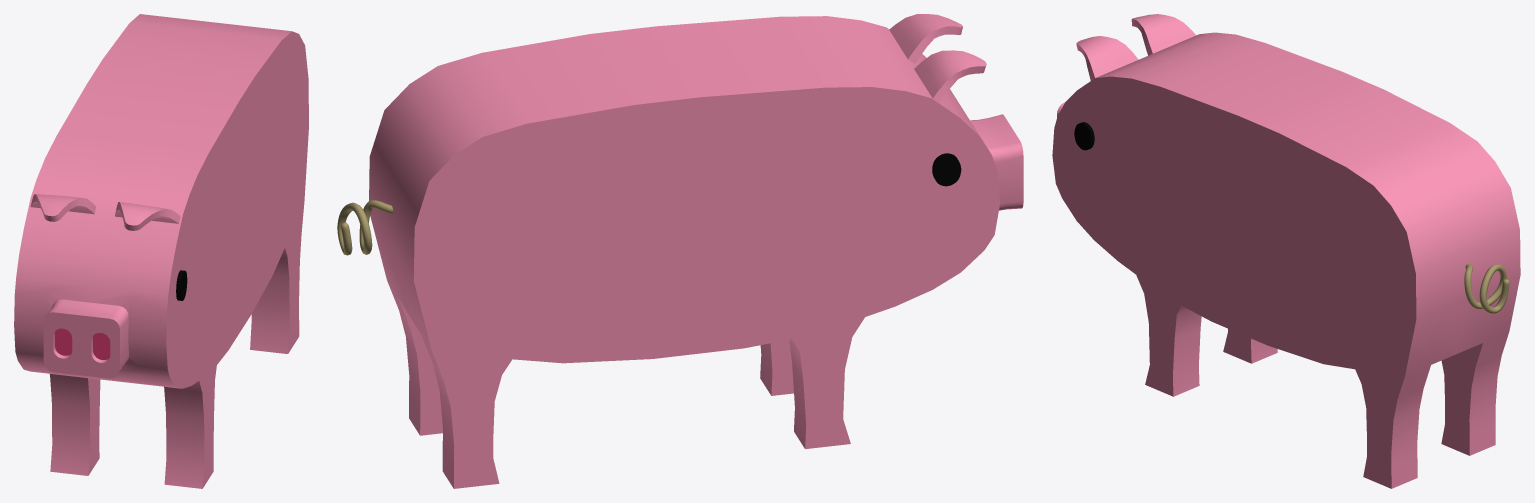
Rendered from pig.glb.
3 views of the same model, side by side, from view 1: azimuth 30°, elevation 25°; view 2: azimuth 150°, elevation 25°; view 3: azimuth 270°, elevation 25° (orthographic). The views are drawn at different scales.
Visible parts, largest first — view 1: Plane.121, Cube.6232; view 2: Plane.121, Cube.6232, Plane.122, Circle.1896; view 3: Plane.121, Cube.6232, Plane.122.
Part boxes in pixels (x1=…): Plane.121: x1=14, y1=14, x2=308, y2=488; Cube.6232: x1=30, y1=194, x2=180, y2=230; Plane.121: x1=369, y1=16, x2=1023, y2=488; Cube.6232: x1=889, y1=14, x2=986, y2=103; Plane.122: x1=337, y1=200, x2=392, y2=255; Circle.1896: x1=932, y1=153, x2=961, y2=186; Plane.121: x1=1052, y1=32, x2=1520, y2=488; Cube.6232: x1=1076, y1=14, x2=1195, y2=80; Plane.122: x1=1464, y1=263, x2=1509, y2=313.
Bounding box in the file's own units: 2.21 × 1.61 × 2.21.
Materials: 1 (1 with a texture image).
